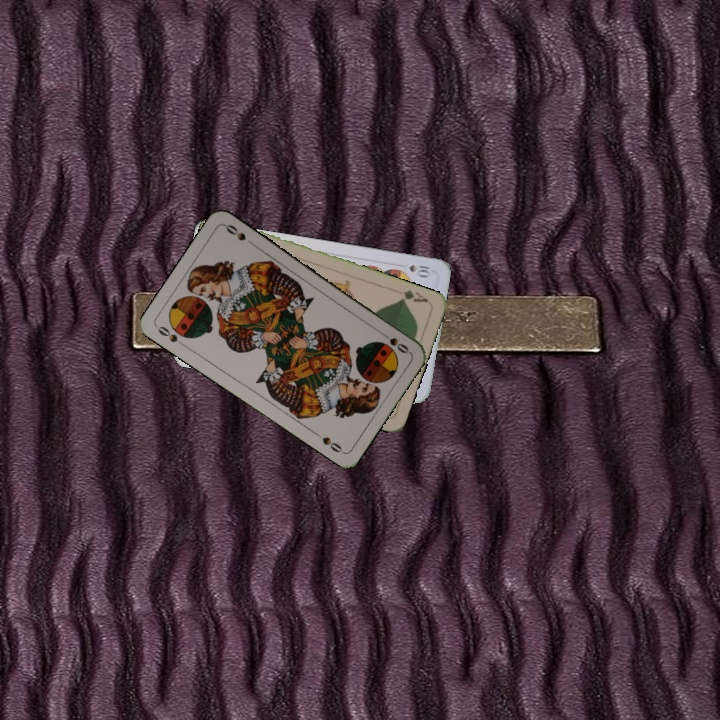GA: (396, 286, 431, 305)
S10: (405, 261, 433, 280)
SO: (376, 328, 412, 356), (154, 322, 189, 350)
